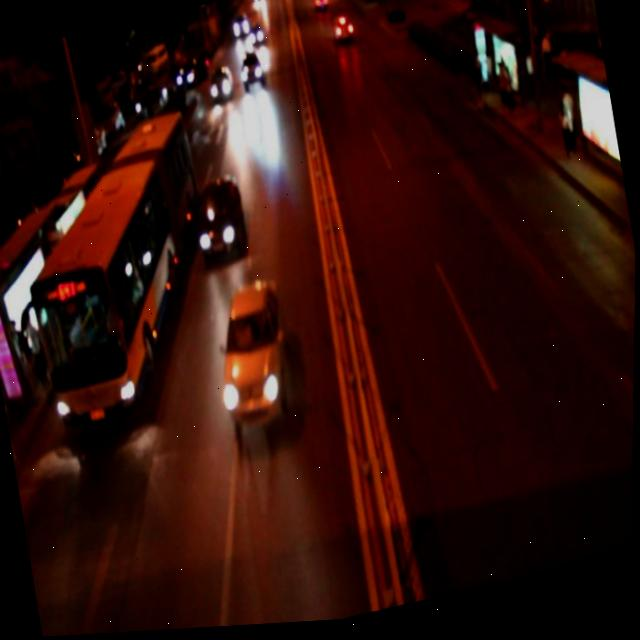car: (205, 278, 301, 434), (188, 173, 252, 270), (236, 50, 268, 95), (206, 65, 237, 109), (329, 11, 356, 49)
van: (0, 106, 223, 429)
